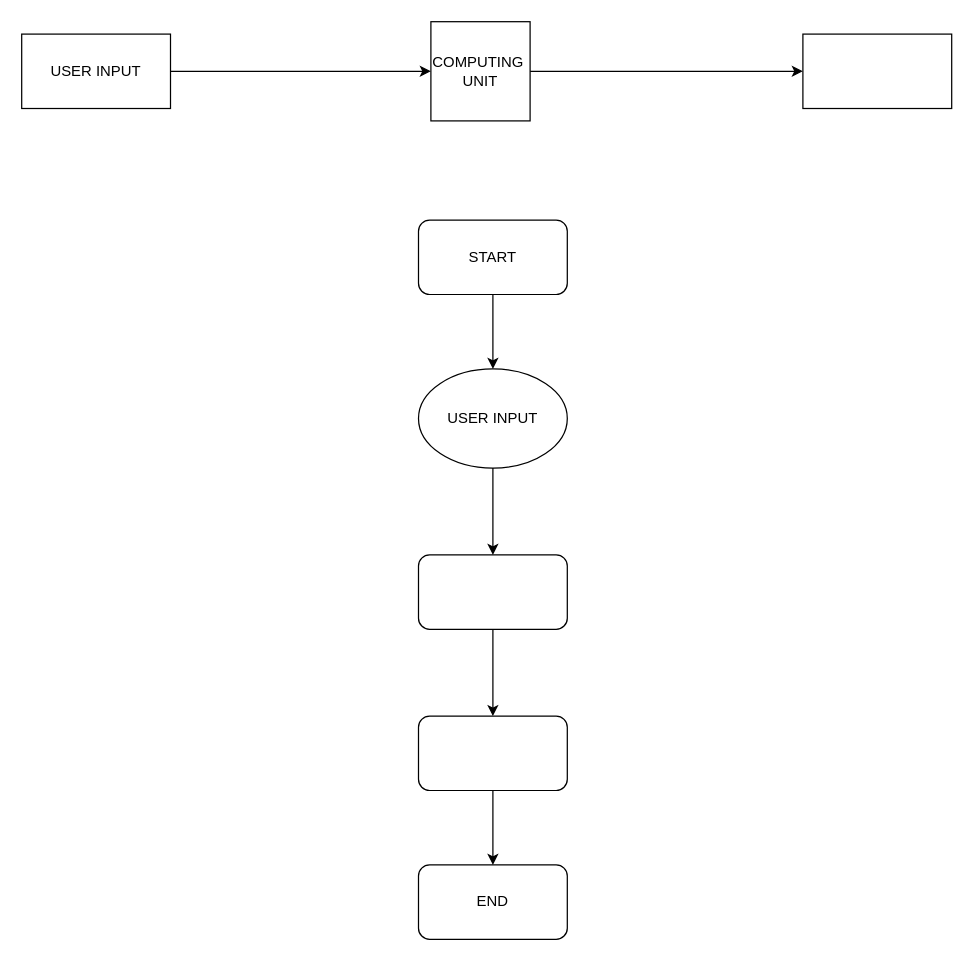
The diagram is 973 pixels wide and 961 high, and some of its shapes have lost their labels. The shapes that lost their labels are listed below. From the top down, each one's centre as x and y in pixels, then its label:
At (x=877, y=70): "OUTPUT".
At (x=492, y=591): "ADD/COMPUTE".
At (x=492, y=752): "DISPLAY OUTPUT".
